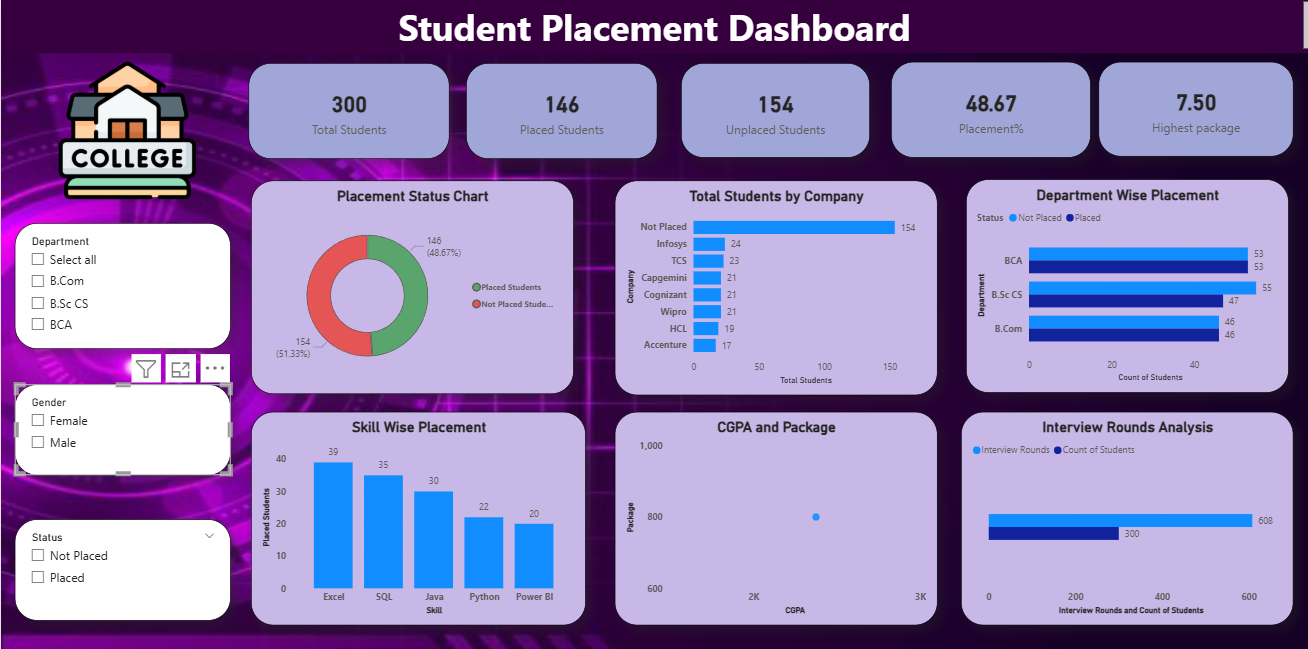

The page's visual inventory and layout, read from the dashboard file:
{"tool":"powerbi","page":{"name":"Page 1","canvas":[1750,900],"ordinal":0},"visuals":[{"type":"donutChart","title":"Placement Status Chart","fields":{"Y":["Sheet1.Placed Students","Sheet1.Not Placed Students"]},"box":[333.3,243.3,430,285],"z":5000},{"type":"clusteredBarChart","title":"Department Wise Placement","fields":{"Category":["Sheet1.Department"],"Y":["Sheet1.Total Students"],"Series":["Sheet1.Status"]},"box":[1286.7,241.7,430,285],"z":6000},{"type":"clusteredBarChart","fields":{"Category":["Sheet1.Company"],"Y":["Sheet1.Total Students"]},"box":[818.3,243.3,430,286.7],"z":7000},{"type":"columnChart","title":"Skill Wise Placement","fields":{"Category":["Sheet1.Skill"],"Y":["Sheet1.Placed Students"]},"box":[333.3,551.7,446.7,285],"z":8000},{"type":"scatterChart","fields":{"X":["Sum(Sheet1.CGPA)"],"Y":["Sum(Sheet1.Package (LPA))"]},"box":[818.3,551.7,430,285],"z":9000},{"type":"clusteredBarChart","title":"Interview Rounds Analysis","fields":{"Y":["Sum(Sheet1.Interview Rounds)","Sheet1.Total Students"]},"box":[1280,551.7,443.3,285],"z":10000},{"type":"slicer","fields":{"Values":["Sheet1.Department"]},"box":[18.3,300,288.3,168.3],"z":10002},{"type":"slicer","fields":{"Values":["Sheet1.Gender"]},"box":[18.3,515,288.3,121.7],"z":10003},{"type":"slicer","fields":{"Values":["Sheet1.Status"]},"box":[18.3,695,288.3,135],"z":10004},{"type":"card","fields":{"Values":["Sheet1.Total Students"]},"box":[330,86.7,268.3,128.3],"z":10005},{"type":"card","fields":{"Values":["Sheet1.Placed Students"]},"box":[620,86.7,255,128.3],"z":10006},{"type":"card","fields":{"Values":["Sheet1.Not Placed Students"]},"box":[906.7,86.7,251.7,126.7],"z":10007},{"type":"card","fields":{"Values":["Sheet1.Placement%"]},"box":[1186.7,85,266.7,128.3],"z":10008},{"type":"card","fields":{"Values":["Sheet1.Highest package"]},"box":[1463.3,85,260,126.7],"z":10009},{"type":"textbox","box":[0,0,1750,73.3],"z":10010},{"type":"image","box":[3.3,85,330,183.3],"z":10011}]}

Visuals, with their boxes in screenshot pixels (x1, y1, x2, y2):
"Placement Status Chart" donutChart: {"x1": 253, "y1": 176, "x2": 571, "y2": 387}
"Department Wise Placement" clusteredBarChart: {"x1": 958, "y1": 175, "x2": 1276, "y2": 386}
clusteredBarChart - Sheet1.Company x Sheet1.Total Students: {"x1": 612, "y1": 176, "x2": 929, "y2": 388}
"Skill Wise Placement" columnChart: {"x1": 253, "y1": 404, "x2": 583, "y2": 615}
scatterChart - Sum(Sheet1.CGPA) x Sum(Sheet1.Package (LPA)): {"x1": 612, "y1": 404, "x2": 929, "y2": 615}
"Interview Rounds Analysis" clusteredBarChart: {"x1": 953, "y1": 404, "x2": 1280, "y2": 615}
slicer - Sheet1.Department: {"x1": 20, "y1": 218, "x2": 233, "y2": 343}
slicer - Sheet1.Gender: {"x1": 20, "y1": 377, "x2": 233, "y2": 467}
slicer - Sheet1.Status: {"x1": 20, "y1": 510, "x2": 233, "y2": 610}
card - Sheet1.Total Students: {"x1": 251, "y1": 61, "x2": 449, "y2": 155}
card - Sheet1.Placed Students: {"x1": 465, "y1": 61, "x2": 654, "y2": 155}
card - Sheet1.Not Placed Students: {"x1": 677, "y1": 61, "x2": 863, "y2": 154}
card - Sheet1.Placement%: {"x1": 884, "y1": 59, "x2": 1081, "y2": 154}
card - Sheet1.Highest package: {"x1": 1088, "y1": 59, "x2": 1280, "y2": 153}
textbox: {"x1": 7, "y1": 0, "x2": 1300, "y2": 51}
image: {"x1": 9, "y1": 59, "x2": 253, "y2": 195}
